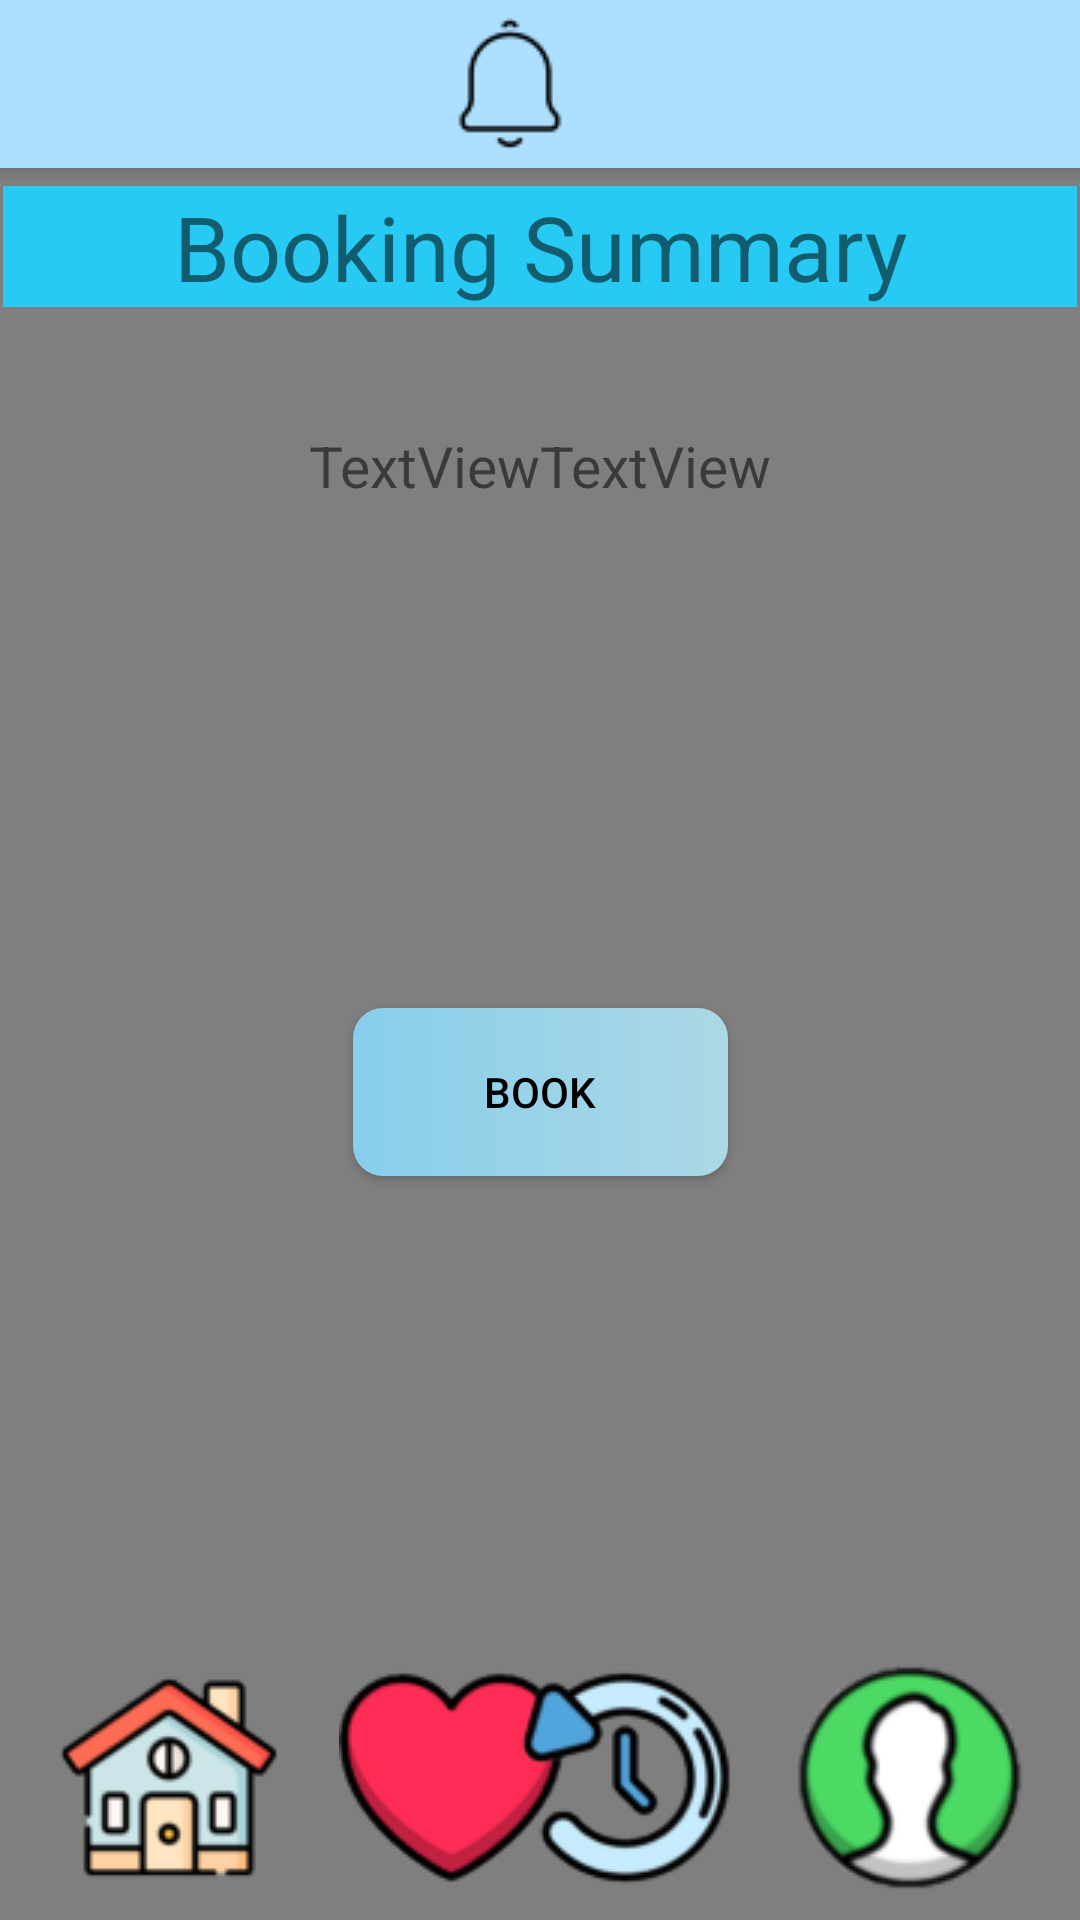

Where icons sit on this 1080*1920 app screen, as (x1, y1, x2, y2):
heart: (339, 1673, 564, 1882)
history: (516, 1673, 730, 1882)
home: (62, 1679, 277, 1876)
notification: (458, 18, 562, 148)
profile: (798, 1667, 1021, 1888)
